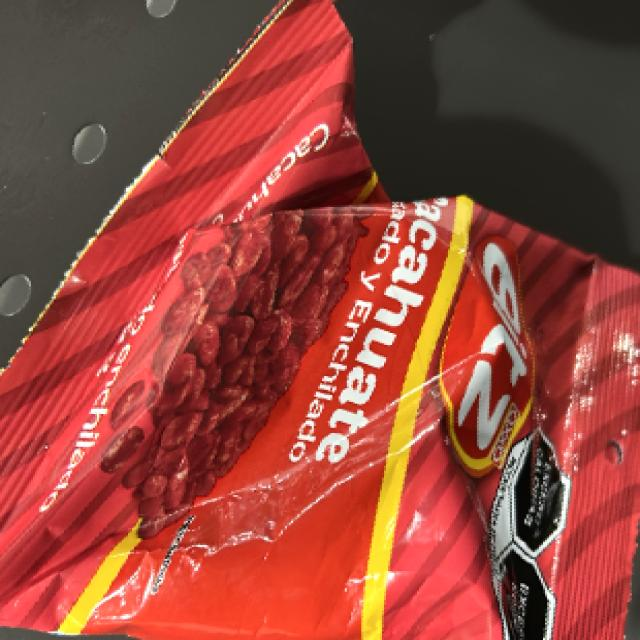bitzEnchilado90: (82, 186, 603, 640)
